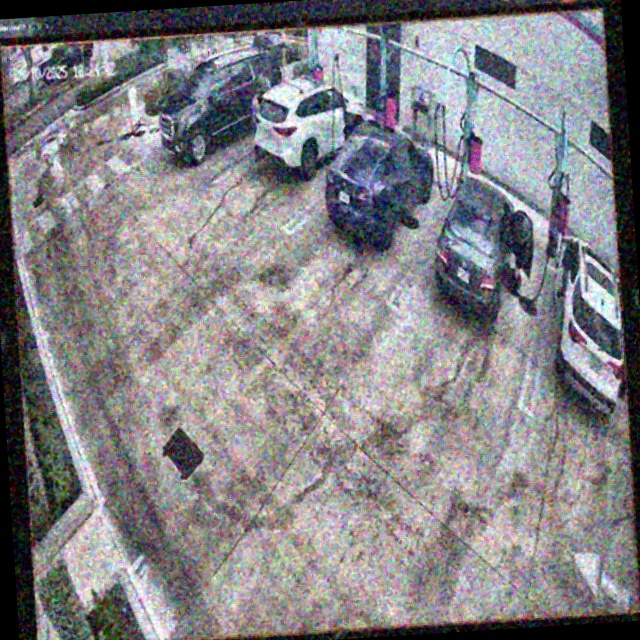Car: (323, 118, 437, 250), (156, 47, 285, 162), (429, 172, 534, 312), (252, 76, 368, 179)
